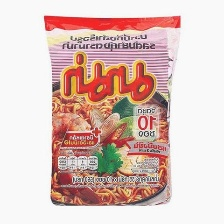snack: (36, 8, 188, 212)
